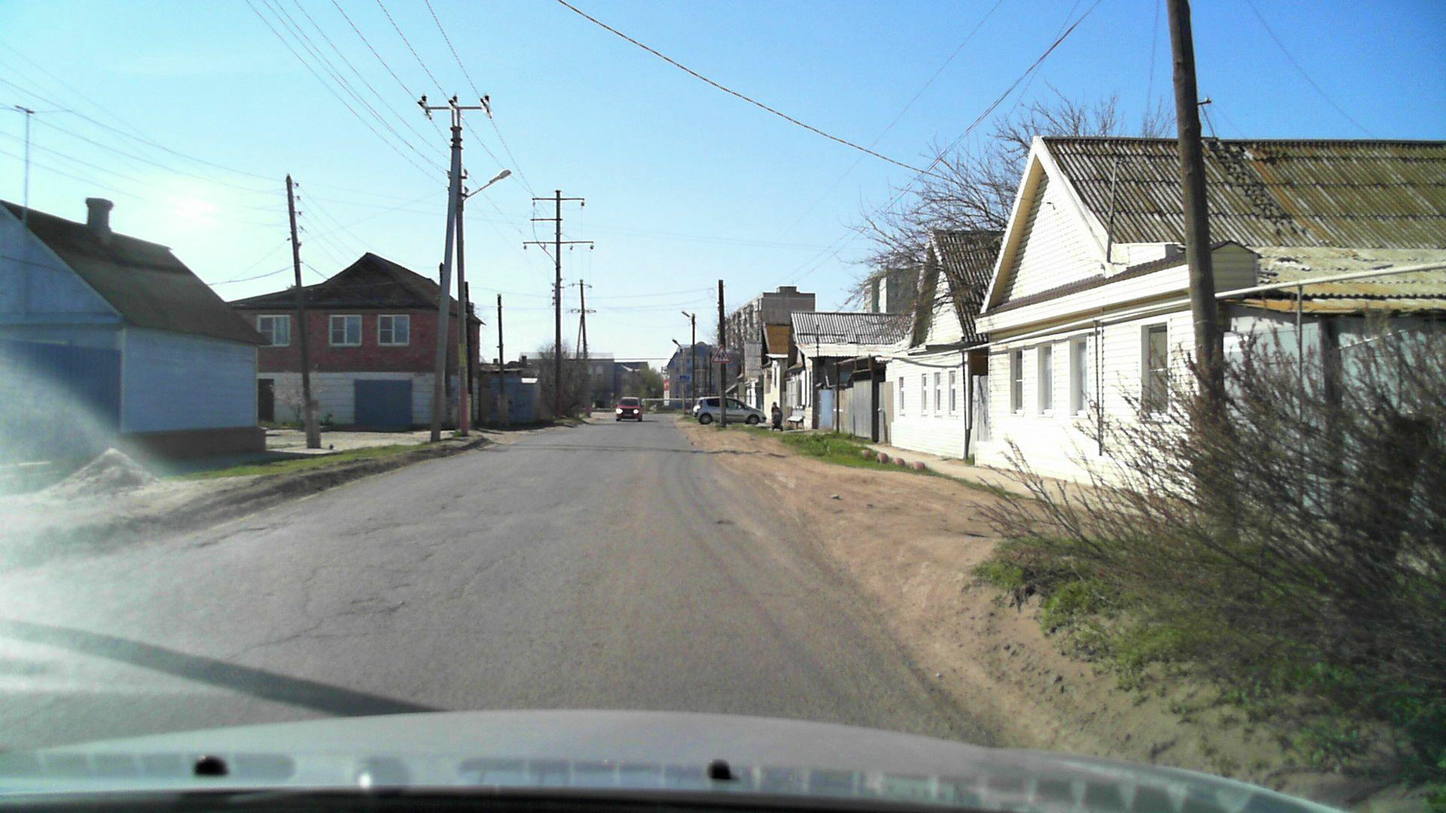road_sign: (710, 342, 733, 364)
